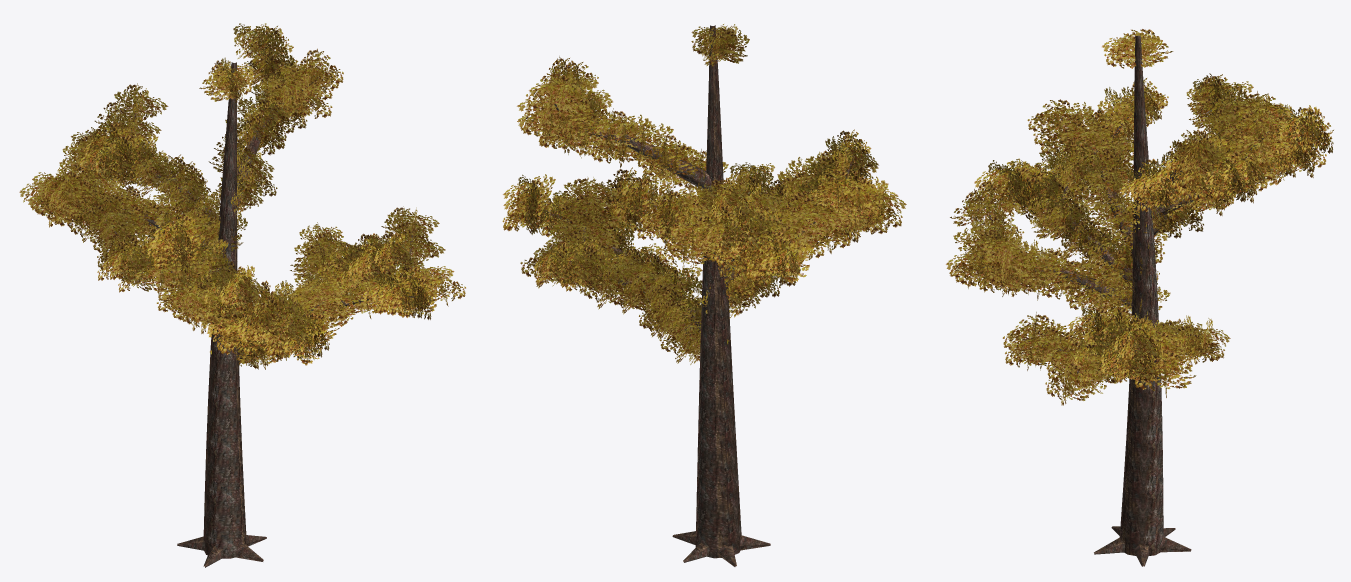
File: tree_3d_05_yellow_lod0.glb
3 renders of one model, left to right at view 1: azimuth 30°, elevation 25°; view 2: azimuth 150°, elevation 25°; view 3: azimuth 270°, elevation 25°, orthographic. The views are drawn at different scales.
Visible parts, largest first — view 1: foliage_cards, wood_geometry; view 2: foliage_cards, wood_geometry; view 3: foliage_cards, wood_geometry.
Boxes of the visible parts, <box> form: foliage_cards: <box>19,23,465,369</box>; wood_geometry: <box>93,48,424,567</box>; foliage_cards: <box>502,24,906,364</box>; wood_geometry: <box>520,25,854,566</box>; foliage_cards: <box>946,29,1333,405</box>; wood_geometry: <box>983,35,1303,566</box>.
Size of the model in its own units: 11.23 by 14.66 by 10.09.
2 materials, 2 textured.
